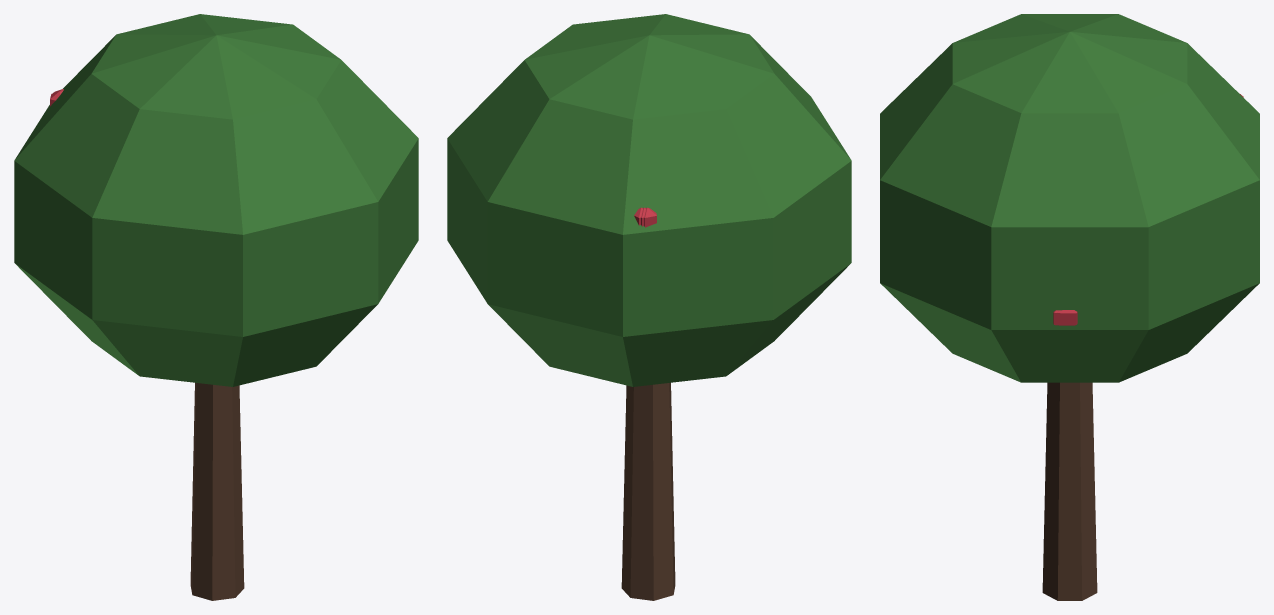
File: tree_apple.glb
3 views of the same model, side by side, from view 1: azimuth 30°, elevation 25°; view 2: azimuth 150°, elevation 25°; view 3: azimuth 270°, elevation 25° (orthographic).
Parts seen in each view (by area): view 1: tree_apple; view 2: tree_apple; view 3: tree_apple.
Part boxes in pixels (x1=…): tree_apple: x1=14, y1=14, x2=418, y2=600; tree_apple: x1=447, y1=14, x2=851, y2=600; tree_apple: x1=880, y1=14, x2=1259, y2=600.
Bounding box in the file's own units: 1.77 × 2.85 × 1.76.
